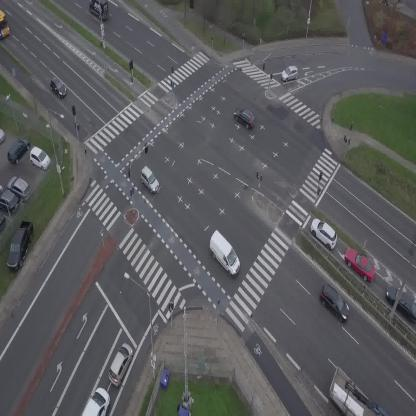bus: (0, 10, 10, 40)
car: (340, 242, 382, 286), (314, 282, 355, 324), (103, 340, 137, 388), (305, 214, 343, 252), (135, 165, 164, 195), (230, 103, 259, 131), (82, 387, 110, 416), (46, 76, 70, 100), (279, 64, 300, 82)
lorry: (314, 366, 389, 416), (201, 229, 248, 278)
